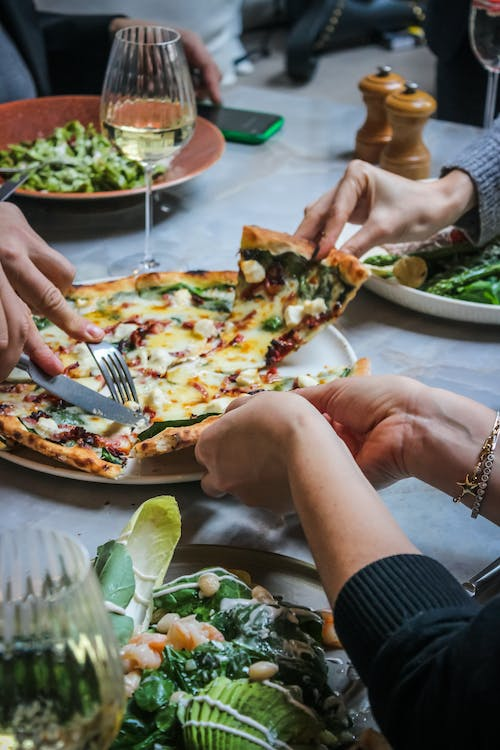alcohol: (0, 524, 128, 750), (98, 24, 198, 279), (465, 0, 500, 133)
knife: (13, 351, 152, 428), (0, 164, 40, 203)
